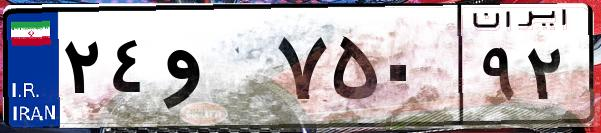0: (385, 28, 445, 110)
2: (57, 26, 110, 100), (525, 38, 570, 115)
4: (110, 28, 158, 98)
5: (330, 28, 385, 110)
7: (270, 28, 330, 110)
9: (475, 38, 525, 113)
و: (158, 20, 270, 120)
